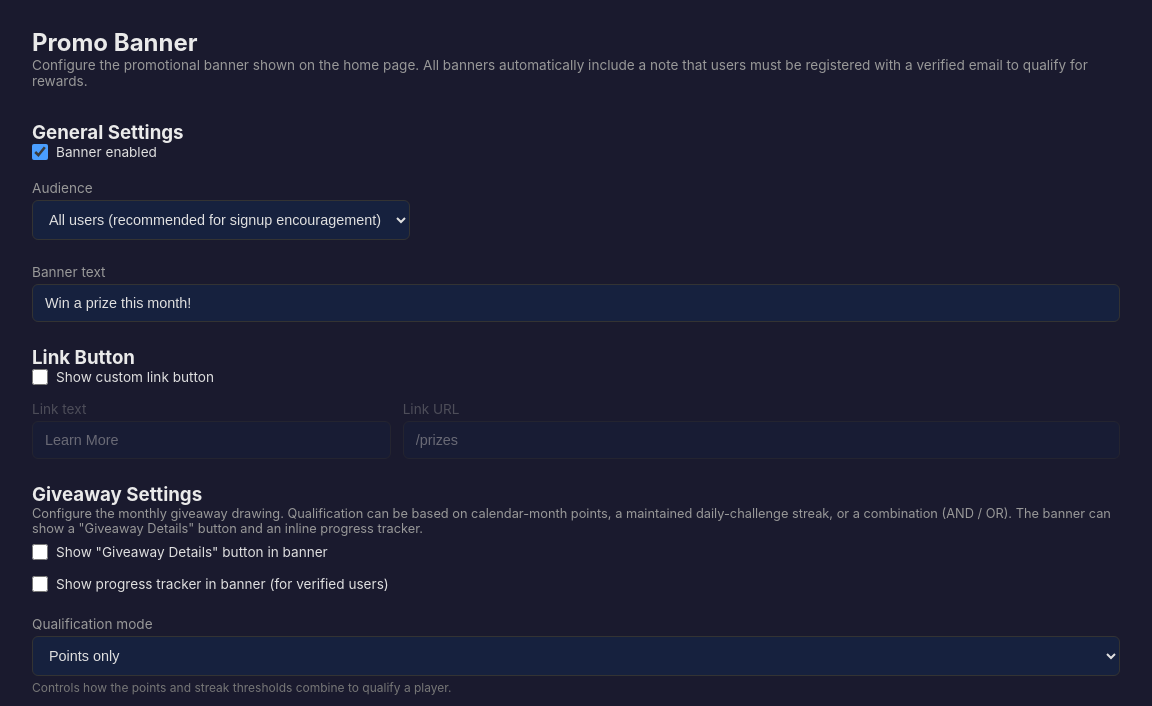
Test: AdminBannerPage › streak_only mode hides points input and shows streak input
Select "Streak only" in the dropdown with test id "banner-giveaway-mode". click: [576, 656]
box: [32,636,1120,676]
(page scrolled)
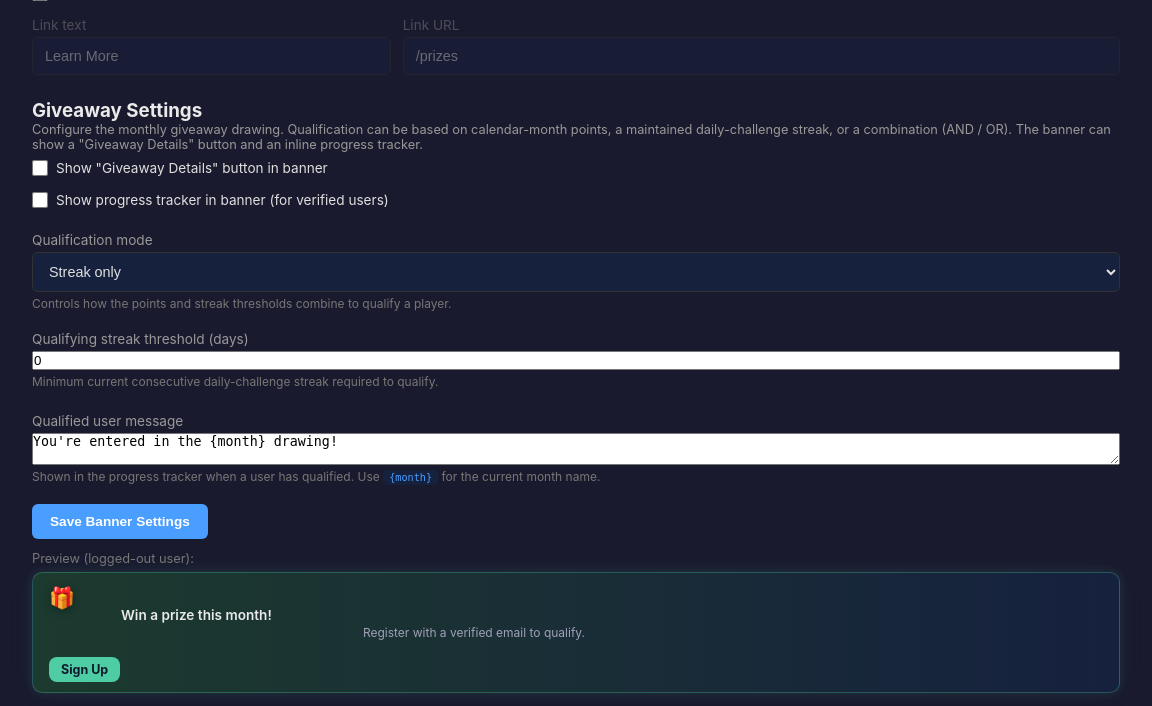
Result: the number field with test id "banner-giveaway-min-streak" is shown at [32,351,1120,370]
